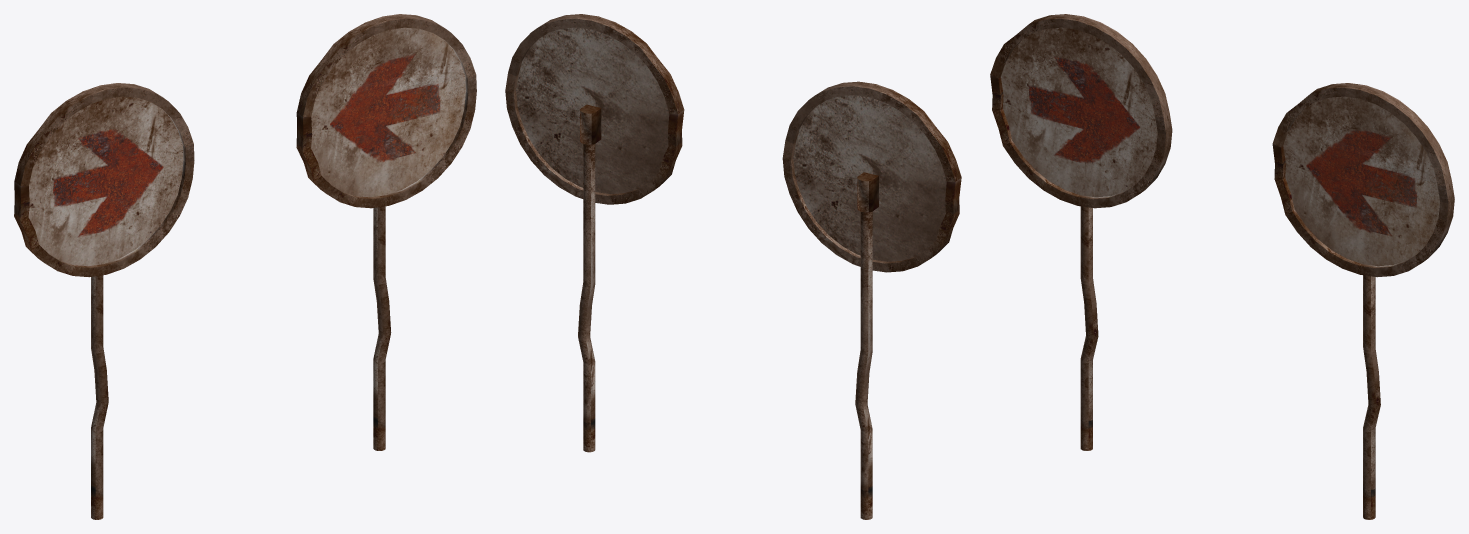
File: signpostRL.FBX
3 renders of one model, left to right at view 1: azimuth 30°, elevation 25°; view 2: azimuth 150°, elevation 25°; view 3: azimuth 330°, elevation 25°, orthographic.
Visible parts, largest first — view 1: Cylinder052, Cylinder053; view 2: Cylinder052, Cylinder053; view 3: Cylinder052, Cylinder053.
Boxes of the visible parts, x1,y1,x2,y2 form: Cylinder052: (14,83,194,519); Cylinder053: (296,14,476,450); Cylinder052: (782,81,961,519); Cylinder053: (505,14,684,452); Cylinder052: (990,14,1172,450); Cylinder053: (1272,83,1454,519).
Bounding box in the file's own units: 210 × 191 × 11.82.
Materials: 2 (2 with a texture image).
